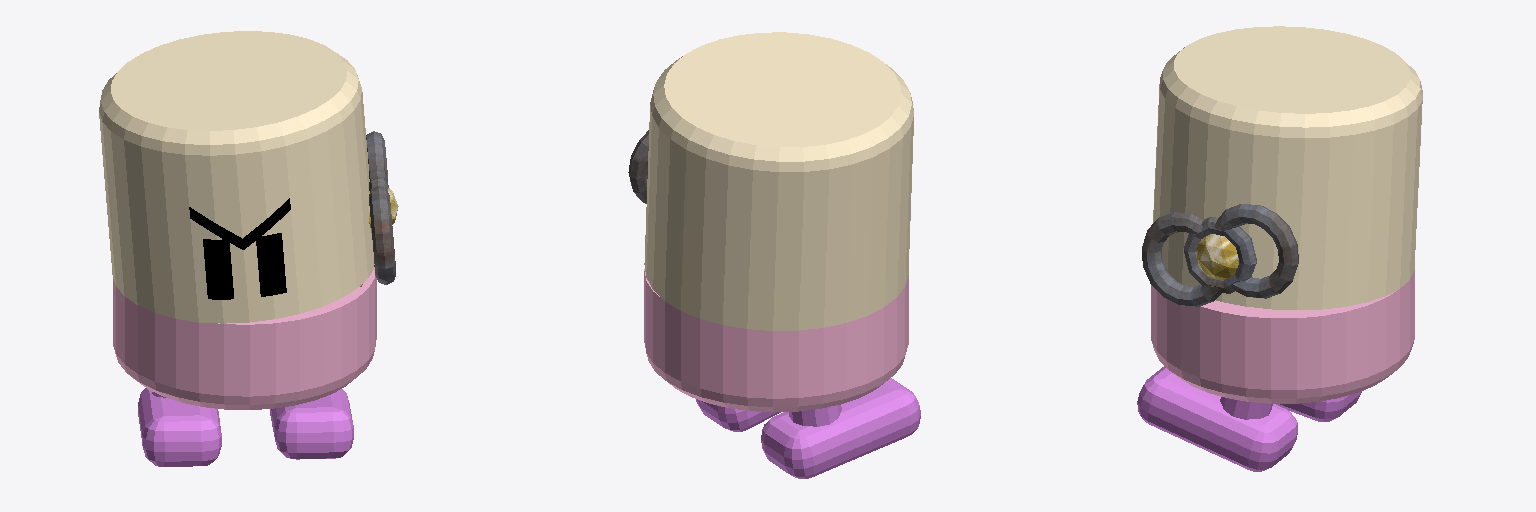
3 renders of one model, left to right at view 1: azimuth 30°, elevation 25°; view 2: azimuth 150°, elevation 25°; view 3: azimuth 270°, elevation 25°, orthographic.
Parts seen in each view (by area): view 1: Head, Jaw, RightLeg, LeftLeg, WindupKey; view 2: Head, Jaw, RightLeg, LeftLeg, WindupKey; view 3: Head, Jaw, WindupKey, LeftLeg, RightLeg.
Part boxes in pixels (x1,y1,x2,y2): Head: (99,31,374,323); Jaw: (113,268,376,409); RightLeg: (138,388,221,466); LeftLeg: (270,389,353,459); WindupKey: (366,131,398,284); Head: (644,32,913,330); Jaw: (644,269,908,411); RightLeg: (761,378,920,478); LeftLeg: (696,399,780,431); WindupKey: (628,130,648,203); Head: (1153,26,1422,309); Jaw: (1151,270,1414,403); WindupKey: (1142,204,1298,306); LeftLeg: (1137,366,1297,471); RightLeg: (1276,391,1361,421).
Size of the model in its own units: 117 by 153 by 108.
Materials: 6 (2 with a texture image).